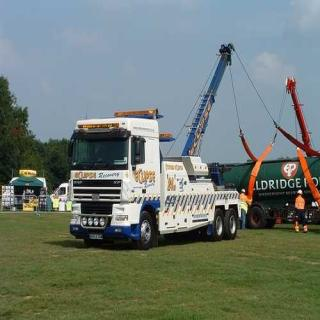Towing_truck: (66, 107, 242, 250)
